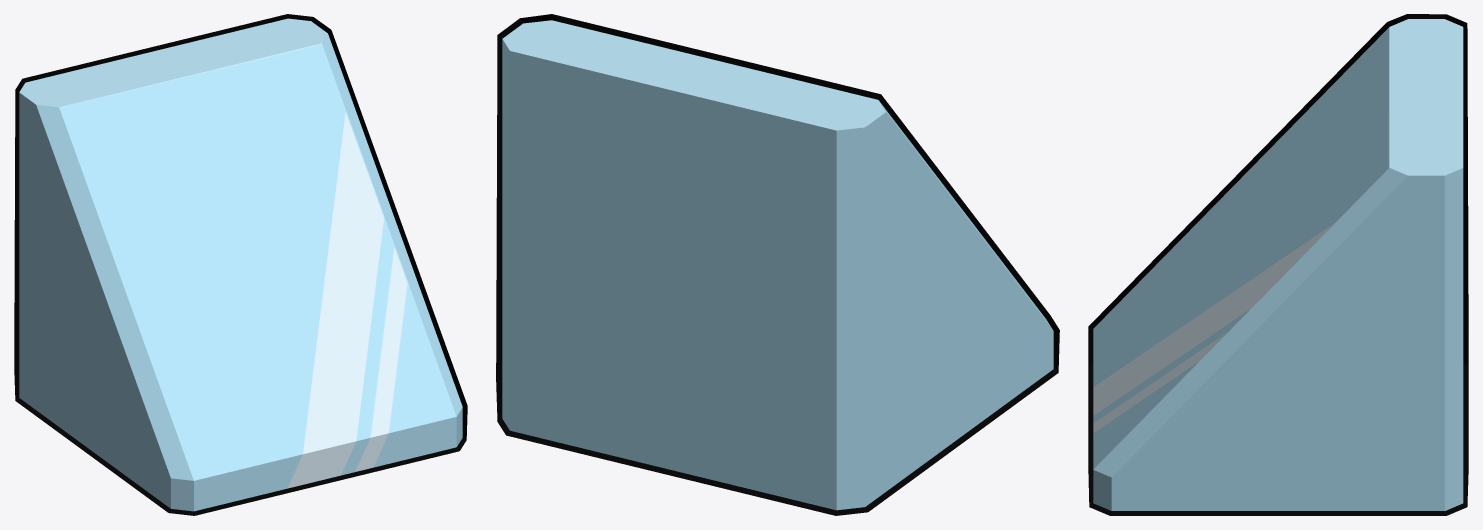
File: BlockSlope 1.FBX
The picture shows the model from 3 angles, left to right: view 1: azimuth 30°, elevation 25°; view 2: azimuth 150°, elevation 25°; view 3: azimuth 270°, elevation 25°; orthographic projection. The views are drawn at different scales.
Visible parts, largest first — view 1: Slope, Outline; view 2: Slope, Outline; view 3: Slope, Outline.
Boxes of the visible parts, x1=… form: Slope: x1=19, y1=18, x2=462, y2=511; Outline: x1=14, y1=14, x2=467, y2=515; Slope: x1=502, y1=20, x2=1053, y2=510; Outline: x1=496, y1=14, x2=1059, y2=515; Slope: x1=1093, y1=19, x2=1463, y2=510; Outline: x1=1088, y1=14, x2=1468, y2=515.
Size of the model in its own units: 103 by 102 by 103.
2 materials, 1 textured.
